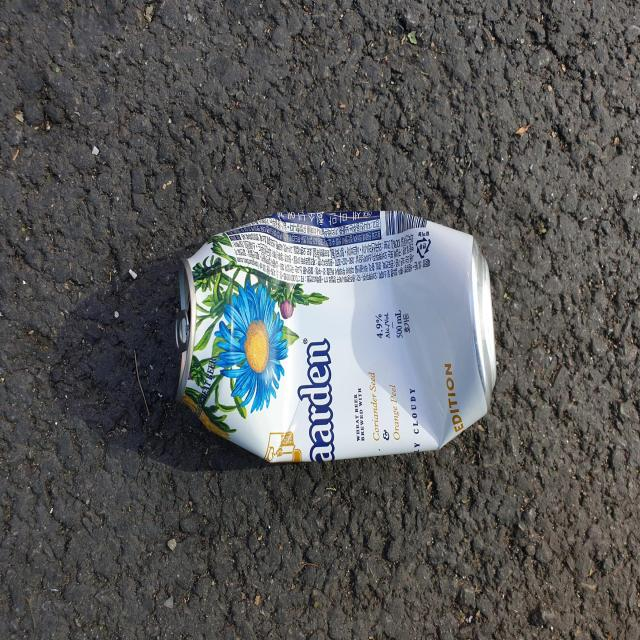can: (175, 210, 496, 463)
